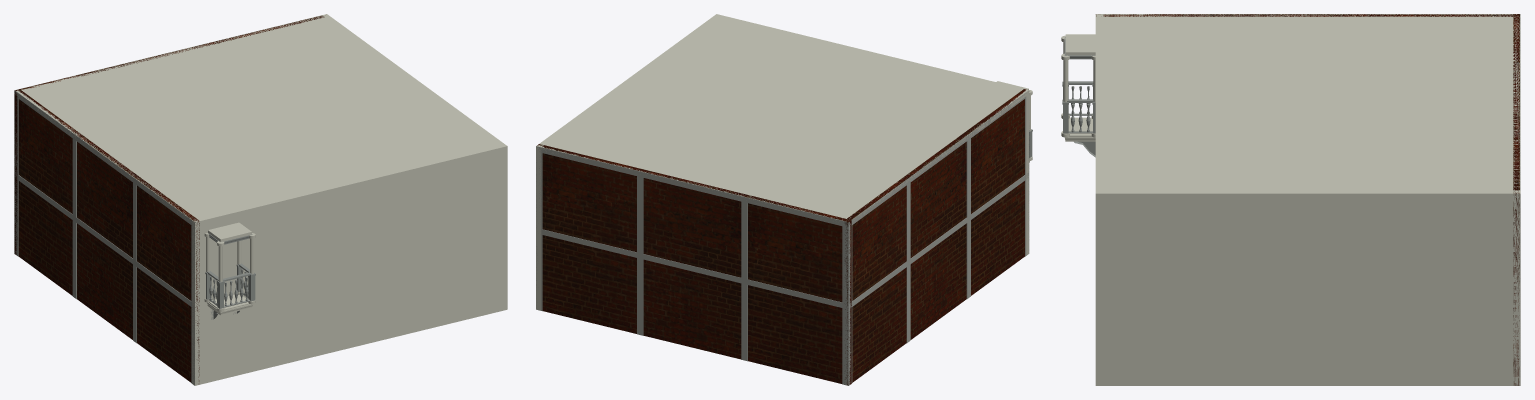
Rendered from building.glb.
3 renders of one model, left to right at view 1: azimuth 30°, elevation 25°; view 2: azimuth 150°, elevation 25°; view 3: azimuth 270°, elevation 25°, orthographic. The views are drawn at different scales.
Visible parts, largest first — view 1: roof/house:0/roof_slab#0001, house:0/edge0/z0/house:0/edge0/z0/wall_0_0, house:0/edge3/z0/house:0/edge3/z0/wall_0_0, house:0/edge2/z0/house:0/edge2/z0/wall_0_0, house:0/edge3/z0/house:0/edge3/z0/beam_0_0, house:0/edge1/z0/house:0/edge1/z0/wall_0_0, house:0/edge3/z0/house:0/edge3/z0/beam_1_0, balcony/sample/balcony_cover#0001; view 2: roof/house:0/roof_slab#0001, house:0/edge2/z0/house:0/edge2/z0/wall_0_0, house:0/edge3/z0/house:0/edge3/z0/wall_0_0, house:0/edge1/z0/house:0/edge1/z0/wall_0_0, house:0/edge2/z0/house:0/edge2/z0/beam_1_0, house:0/edge2/z0/house:0/edge2/z0/beam_0_0, house:0/edge0/z0/house:0/edge0/z0/wall_0_0, house:0/edge3/z0/house:0/edge3/z0/beam_0_0, house:0/edge3/z0/house:0/edge3/z0/beam_1_0, house:0/edge2/z0/house:0/edge2/z0/column_1_0, house:0/edge2/z0/house:0/edge2/z0/column_1_1, house:0/edge2/z0/house:0/edge2/z0/column_2_0 (+3 smaller); view 3: house:0/edge1/z0/house:0/edge1/z0/wall_0_0, roof/house:0/roof_slab#0001, house:0/edge0/z0/house:0/edge0/z0/wall_0_0, house:0/edge2/z0/house:0/edge2/z0/wall_0_0, house:0/edge3/z0/house:0/edge3/z0/wall_0_0, balcony/sample/balcony_cover#0001.
Part boxes in pixels (x1,y1,x2,y2): roof/house:0/roof_slab#0001: (15, 15, 504, 225); house:0/edge0/z0/house:0/edge0/z0/wall_0_0: (192, 144, 507, 385); house:0/edge3/z0/house:0/edge3/z0/wall_0_0: (18, 89, 199, 382); house:0/edge2/z0/house:0/edge2/z0/wall_0_0: (14, 15, 324, 254); house:0/edge3/z0/house:0/edge3/z0/beam_0_0: (14, 173, 194, 308); house:0/edge1/z0/house:0/edge1/z0/wall_0_0: (322, 14, 507, 310); house:0/edge3/z0/house:0/edge3/z0/beam_1_0: (14, 90, 195, 227); balcony/sample/balcony_cover#0001: (208, 222, 251, 241); roof/house:0/roof_slab#0001: (538, 15, 1029, 224); house:0/edge2/z0/house:0/edge2/z0/wall_0_0: (537, 144, 851, 384); house:0/edge3/z0/house:0/edge3/z0/wall_0_0: (844, 89, 1026, 385); house:0/edge1/z0/house:0/edge1/z0/wall_0_0: (536, 14, 720, 310); house:0/edge2/z0/house:0/edge2/z0/beam_1_0: (537, 146, 848, 227); house:0/edge2/z0/house:0/edge2/z0/beam_0_0: (541, 229, 848, 309); house:0/edge0/z0/house:0/edge0/z0/wall_0_0: (714, 14, 1029, 255); house:0/edge3/z0/house:0/edge3/z0/beam_0_0: (848, 172, 1029, 309); house:0/edge3/z0/house:0/edge3/z0/beam_1_0: (848, 90, 1028, 227); house:0/edge2/z0/house:0/edge2/z0/column_1_0: (842, 308, 848, 385); house:0/edge2/z0/house:0/edge2/z0/column_1_1: (842, 226, 848, 303); house:0/edge2/z0/house:0/edge2/z0/column_2_0: (637, 176, 643, 253); house:0/edge1/z0/house:0/edge1/z0/wall_0_0: (1095, 190, 1520, 385); roof/house:0/roof_slab#0001: (1095, 14, 1520, 197); house:0/edge0/z0/house:0/edge0/z0/wall_0_0: (1095, 14, 1102, 385); house:0/edge2/z0/house:0/edge2/z0/wall_0_0: (1513, 14, 1519, 385); house:0/edge3/z0/house:0/edge3/z0/wall_0_0: (1096, 14, 1517, 16); balcony/sample/balcony_cover#0001: (1065, 34, 1095, 55).
Bounding box in the file's own units: 12 × 6 × 12.97.
Materials: 4 (1 with a texture image).
